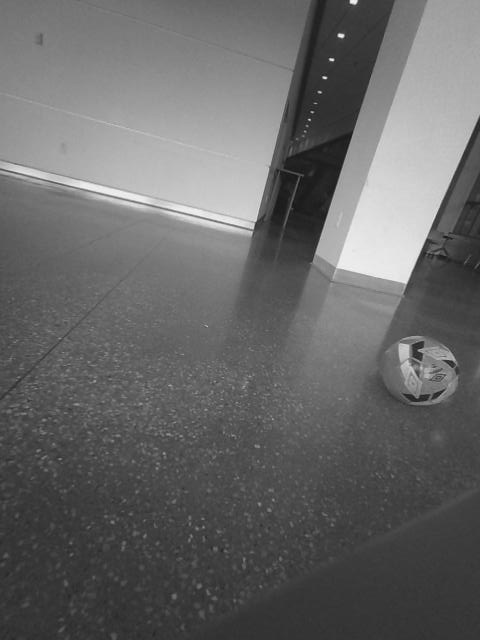ball: (378, 333, 463, 412)
